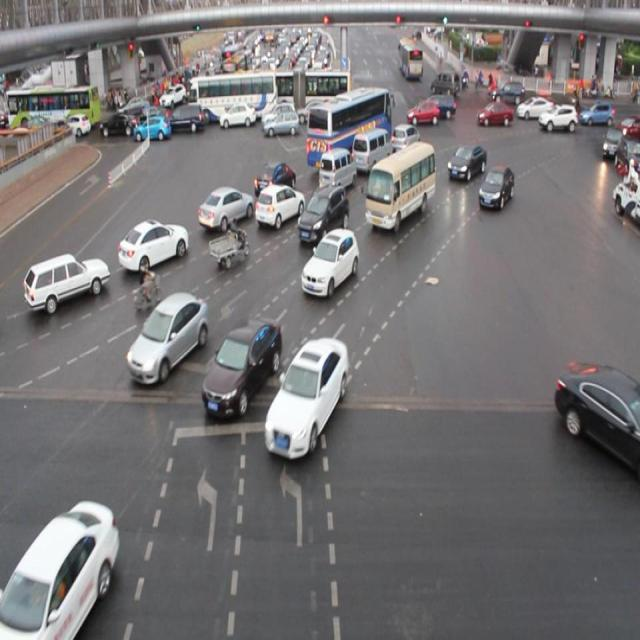car: (1, 489, 119, 640), (551, 354, 640, 485), (263, 338, 349, 456), (125, 292, 208, 389), (202, 319, 282, 417), (22, 252, 109, 316), (300, 228, 361, 297), (117, 219, 189, 275), (296, 188, 348, 246), (196, 184, 254, 232), (254, 184, 304, 230), (255, 161, 296, 202), (445, 142, 486, 182), (477, 166, 513, 210), (390, 124, 420, 160)
truck: (366, 142, 434, 231), (350, 129, 394, 177), (318, 150, 357, 194)
van: (306, 90, 392, 174)
